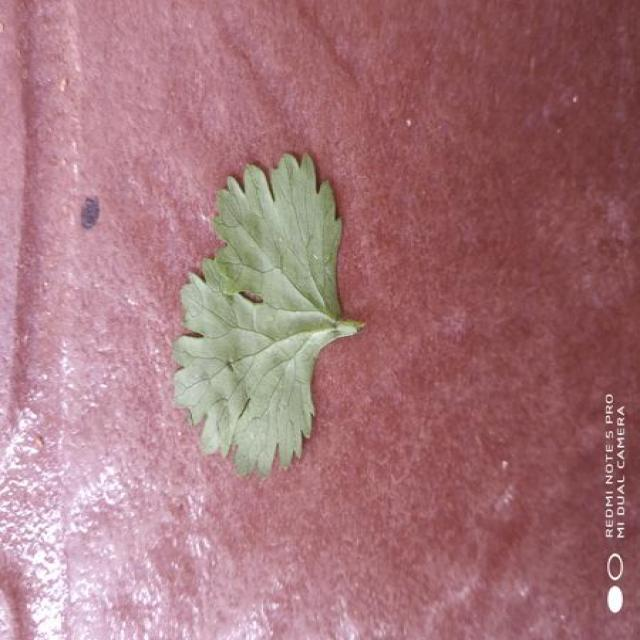coriender: (173, 155, 362, 476)
